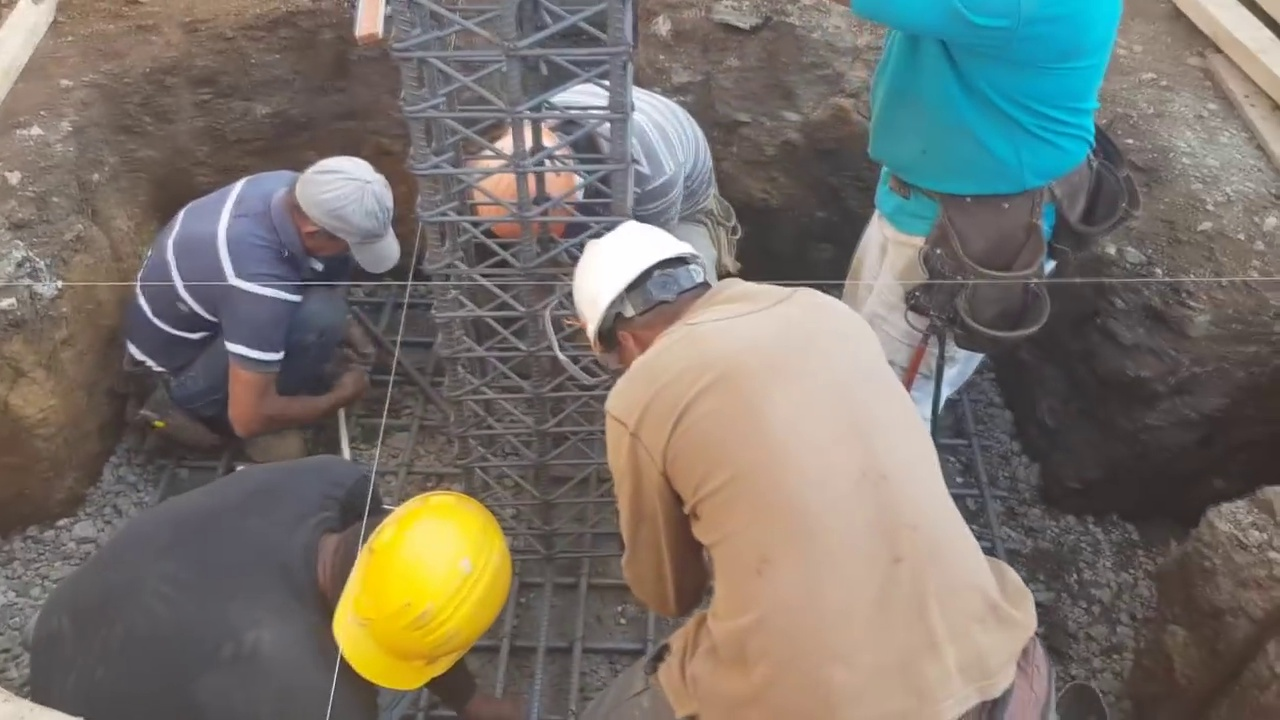helmet: (329, 486, 513, 688), (575, 214, 704, 357), (469, 132, 574, 248)
helmet-off: (285, 157, 401, 265)
helmet-on: (300, 484, 513, 694), (571, 215, 721, 379), (468, 110, 611, 249)
person: (566, 213, 1078, 720), (0, 449, 512, 720), (841, 6, 1117, 422), (110, 149, 421, 457), (466, 73, 739, 280)
